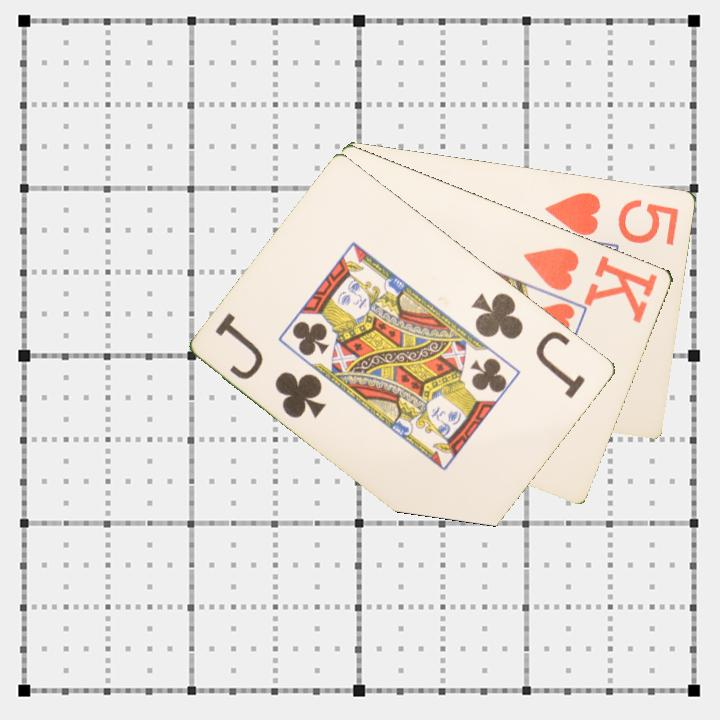5h: (542, 188, 682, 248)
Jc: (469, 288, 589, 402), (211, 309, 330, 422)
Kh: (520, 243, 661, 326)
